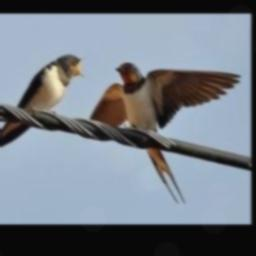Swallow: (87, 62, 240, 202), (0, 55, 83, 149)
